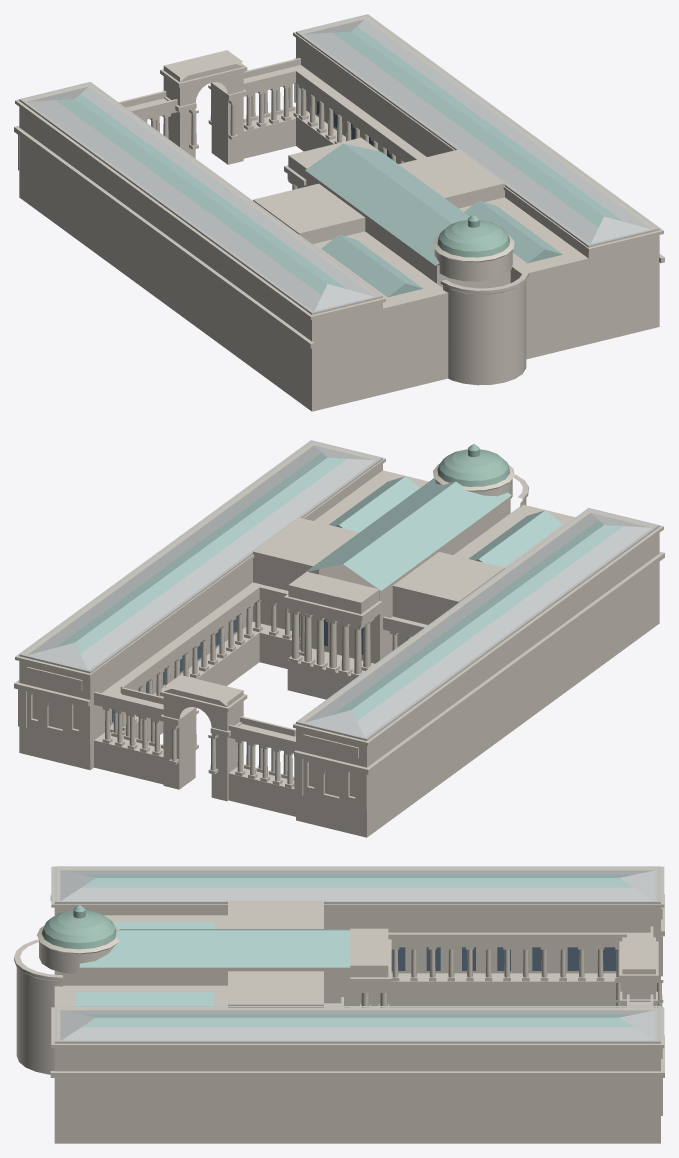
The model's file is sf-legion-of-honor.glb.
3 views of the same model, one above another, from view 1: azimuth 30°, elevation 25°; view 2: azimuth 150°, elevation 25°; view 3: azimuth 270°, elevation 25° (orthographic). The views are drawn at different scales.
Visible parts, largest first — view 1: California Palace of the Legion of Honor; view 2: California Palace of the Legion of Honor; view 3: California Palace of the Legion of Honor.
Boxes of the visible parts, x1=… form: California Palace of the Legion of Honor: x1=14, y1=14, x2=664, y2=411; California Palace of the Legion of Honor: x1=14, y1=440, x2=664, y2=837; California Palace of the Legion of Honor: x1=14, y1=866, x2=664, y2=1143.
Bounding box in the file's own units: 61.4 × 24.2 × 94.3.
